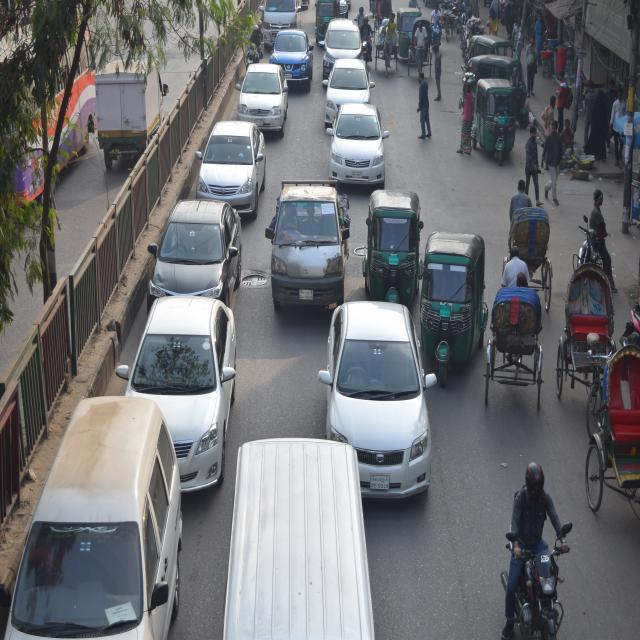car: (0, 394, 186, 640), (327, 301, 425, 468), (134, 298, 243, 444), (161, 200, 240, 298), (192, 110, 268, 198), (333, 101, 381, 187), (236, 61, 288, 115), (272, 24, 315, 83), (324, 56, 368, 108), (327, 14, 357, 56)
microbus: (220, 441, 360, 640)
motorbike: (497, 496, 569, 640), (564, 207, 611, 290), (433, 0, 468, 35)
pickup-van: (262, 168, 346, 300), (100, 50, 168, 172)
